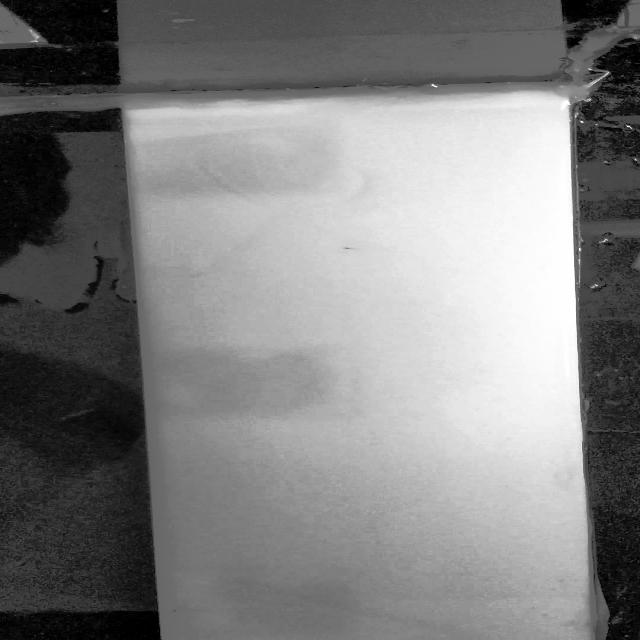shrimp: (163, 604, 193, 620)
